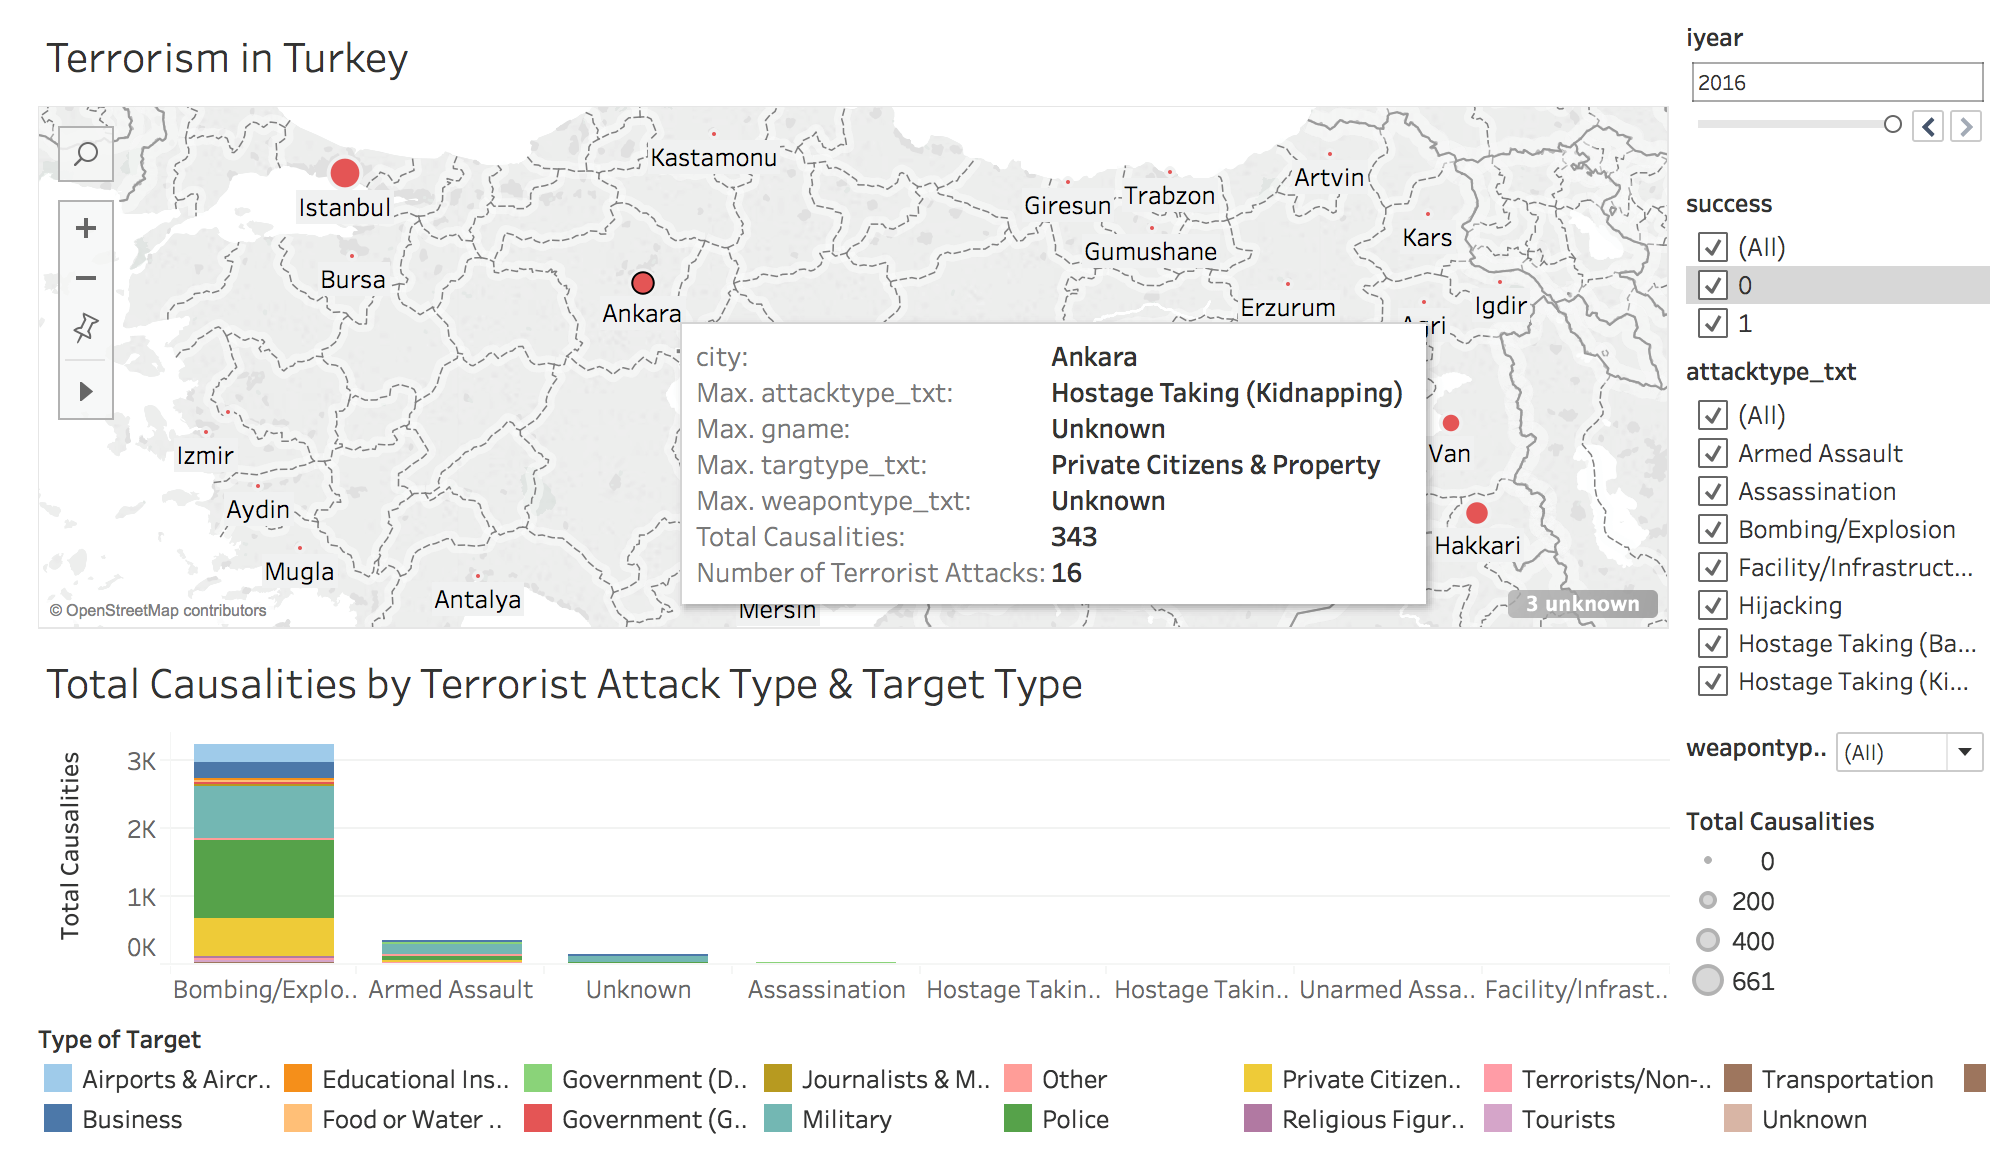

Layout of this report page (visuals, bound fields, positions):
{"tool":"tableau","page":{"name":"Dashboard 1","canvas":[1000,800],"ordinal":0},"visuals":[{"type":"worksheet","title":"Sheet 1","mark":"Automatic","rows":["latitude"],"cols":["longitude"],"box":[8,8,824,784]},{"type":"filter","title":"Sheet 1","param":"[federated.0r33ruc1mmh9n51cb5izi0kvz6ea].[none:iyear:ok]","box":[832,8,160,75]},{"type":"filter","title":"Sheet 1","param":"[federated.0r33ruc1mmh9n51cb5izi0kvz6ea].[none:success:ok]","box":[832,83,160,89]},{"type":"filter","title":"Sheet 1","param":"[federated.0r33ruc1mmh9n51cb5izi0kvz6ea].[none:attacktype_txt:nk]","box":[832,172,160,52]},{"type":"legend","title":"Sheet 1","param":"[federated.0r33ruc1mmh9n51cb5izi0kvz6ea].[none:attacktype_txt:nk]","box":[832,224,160,126]},{"type":"legend","title":"Sheet 1","param":"[federated.0r33ruc1mmh9n51cb5izi0kvz6ea].[sum:Calculation_5759541039107858432:qk","box":[832,350,160,166]}]}

Visuals, with their boxes on the page's 1000x800 design canvas (x1, y1, x2, y2). These are canvas units, not pixel positions in the 2006x1174 screenshot, which may show the page scaled, cropped or inside an application window:
"Sheet 1" worksheet: 8:8:832:792
"Sheet 1" filter: 832:8:992:83
"Sheet 1" filter: 832:83:992:172
"Sheet 1" filter: 832:172:992:224
"Sheet 1" legend: 832:224:992:350
"Sheet 1" legend: 832:350:992:516
